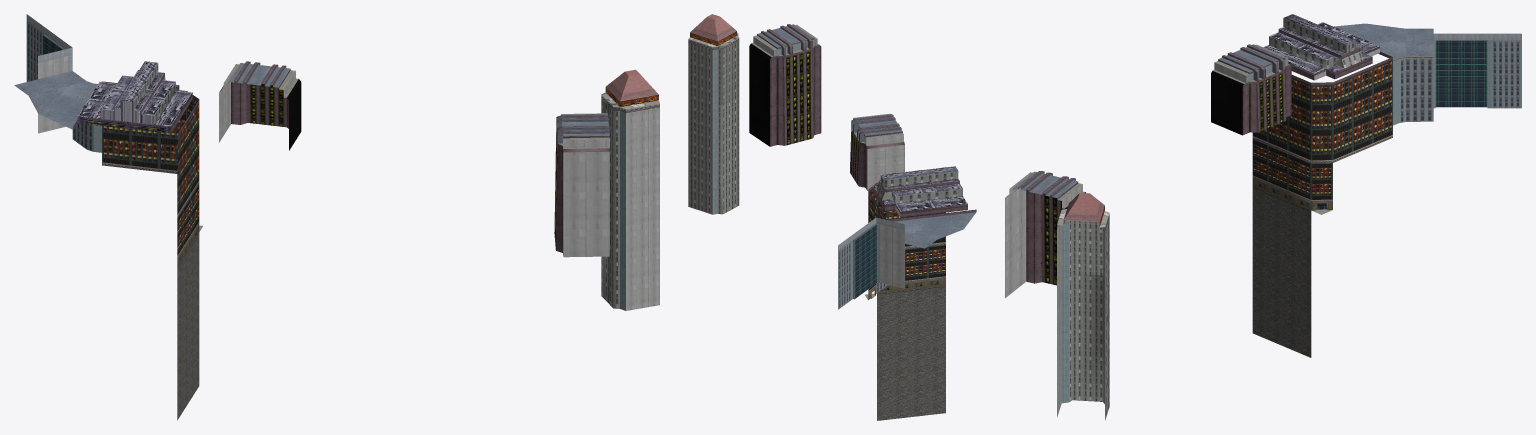
File: STG0100_OS_21.fbx
3 views of the same model, side by side, from view 1: azimuth 30°, elevation 25°; view 2: azimuth 150°, elevation 25°; view 3: azimuth 270°, elevation 25° (orthographic). The views are drawn at different scales.
Parts seen in each view (by area): view 1: STG0100_OS_21_default; view 2: STG0100_OS_21_default; view 3: STG0100_OS_21_default.
Boxes of the visible parts, bbox=[...] form: STG0100_OS_21_default: bbox=[14, 14, 659, 420]; STG0100_OS_21_default: bbox=[688, 14, 976, 420]; STG0100_OS_21_default: bbox=[1005, 14, 1521, 420].
Size of the model in its own units: 2709 by 1815 by 2698.
